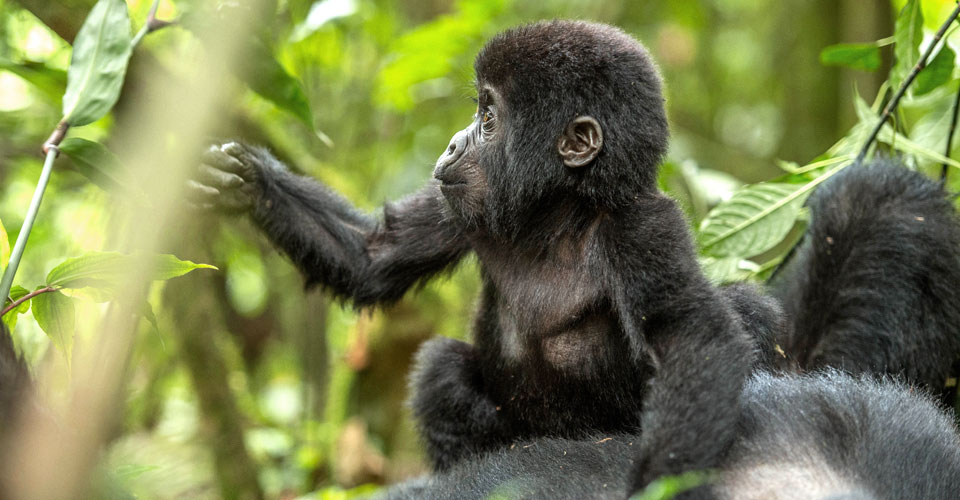Goriila: (205, 30, 788, 499)
